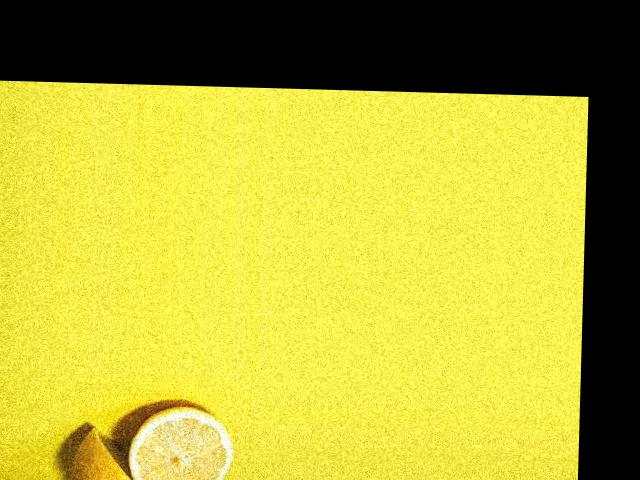lemon: (70, 412, 167, 480)
